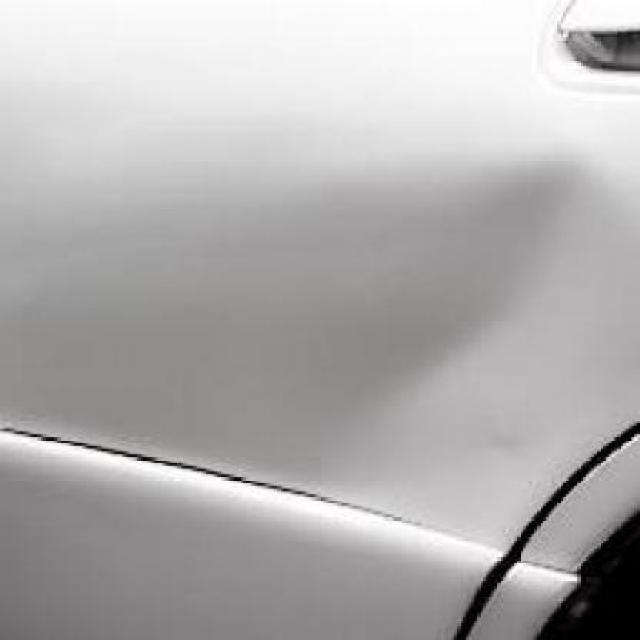dent-or-scratch: (326, 140, 637, 523)
